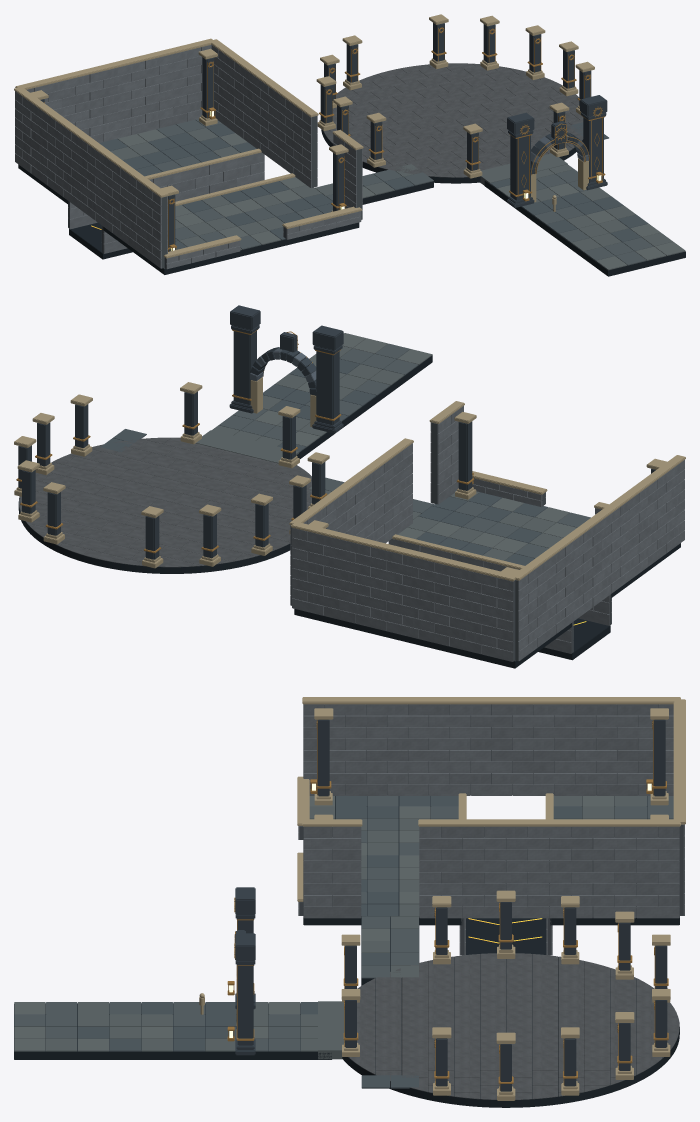
The model's file is fracture-static-v03.glb.
3 renders of one model, top to bottom at view 1: azimuth 30°, elevation 25°; view 2: azimuth 150°, elevation 25°; view 3: azimuth 270°, elevation 25°, orthographic. The views are drawn at different scales.
Visible parts, largest first — view 1: fracture-static-v03 Fire coursed basalt, fracture-static-v03 Quiet basalt 0, fracture-static-v03 Ash stone • warm trim, fracture-static-v03 Basalt • charcoal, fracture-static-v03 Floor stone 3, fracture-static-v03 Floor stone 1, fracture-static-v03 Floor stone 0, fracture-static-v03 Recesses and grout, fracture-static-v03 Floor stone 2, fracture-static-v03 Bronze • forged warm, fracture-static-v03 Fire recessed mortar; view 2: fracture-static-v03 Fire coursed basalt, fracture-static-v03 Quiet basalt 0, fracture-static-v03 Basalt • charcoal, fracture-static-v03 Ash stone • warm trim, fracture-static-v03 Recesses and grout, fracture-static-v03 Floor stone 1, fracture-static-v03 Floor stone 3, fracture-static-v03 Floor stone 0, fracture-static-v03 Floor stone 2, fracture-static-v03 Fire recessed mortar, fracture-static-v03 Bronze • forged warm; view 3: fracture-static-v03 Fire coursed basalt, fracture-static-v03 Quiet basalt 0, fracture-static-v03 Ash stone • warm trim, fracture-static-v03 Basalt • charcoal, fracture-static-v03 Recesses and grout, fracture-static-v03 Floor stone 1, fracture-static-v03 Floor stone 0, fracture-static-v03 Floor stone 3, fracture-static-v03 Floor stone 2, fracture-static-v03 Bronze • forged warm, fracture-static-v03 Fire recessed mortar.
Boxes of the visible parts, x1=… form: fracture-static-v03 Fire coursed basalt: x1=15, y1=44, x2=362, y2=269; fracture-static-v03 Quiet basalt 0: x1=323, y1=63, x2=583, y2=177; fracture-static-v03 Ash stone • warm trim: x1=14, y1=14, x2=594, y2=258; fracture-static-v03 Basalt • charcoal: x1=40, y1=23, x2=607, y2=251; fracture-static-v03 Floor stone 3: x1=99, y1=122, x2=648, y2=249; fracture-static-v03 Floor stone 1: x1=110, y1=128, x2=673, y2=251; fracture-static-v03 Floor stone 0: x1=154, y1=119, x2=653, y2=265; fracture-static-v03 Recesses and grout: x1=18, y1=129, x2=685, y2=276; fracture-static-v03 Floor stone 2: x1=117, y1=129, x2=685, y2=270; fracture-static-v03 Bronze • forged warm: x1=44, y1=26, x2=605, y2=251; fracture-static-v03 Fire recessed mortar: x1=68, y1=62, x2=361, y2=268; fracture-static-v03 Fire coursed basalt: x1=290, y1=406, x2=684, y2=661; fracture-static-v03 Quiet basalt 0: x1=19, y1=437, x2=311, y2=567; fracture-static-v03 Basalt • charcoal: x1=18, y1=305, x2=655, y2=559; fracture-static-v03 Ash stone • warm trim: x1=14, y1=377, x2=685, y2=581; fracture-static-v03 Recesses and grout: x1=18, y1=355, x2=680, y2=668; fracture-static-v03 Floor stone 1: x1=196, y1=346, x2=562, y2=560; fracture-static-v03 Floor stone 3: x1=100, y1=359, x2=547, y2=565; fracture-static-v03 Floor stone 0: x1=219, y1=343, x2=590, y2=661; fracture-static-v03 Floor stone 2: x1=255, y1=333, x2=576, y2=553; fracture-static-v03 Fire recessed mortar: x1=291, y1=423, x2=611, y2=661; fracture-static-v03 Bronze • forged warm: x1=16, y1=329, x2=474, y2=553; fracture-static-v03 Fire coursed basalt: x1=298, y1=704, x2=684, y2=955; fracture-static-v03 Quiet basalt 0: x1=348, y1=953, x2=679, y2=1099; fracture-static-v03 Ash stone • warm trim: x1=199, y1=697, x2=685, y2=1100; fracture-static-v03 Basalt • charcoal: x1=235, y1=719, x2=667, y2=1091; fracture-static-v03 Recesses and grout: x1=14, y1=796, x2=679, y2=1107; fracture-static-v03 Floor stone 1: x1=46, y1=795, x2=646, y2=1059; fracture-static-v03 Floor stone 0: x1=14, y1=795, x2=673, y2=1051; fracture-static-v03 Floor stone 3: x1=78, y1=795, x2=673, y2=1088; fracture-static-v03 Floor stone 2: x1=14, y1=795, x2=614, y2=1051; fracture-static-v03 Bronze • forged warm: x1=227, y1=719, x2=668, y2=1090; fracture-static-v03 Fire recessed mortar: x1=299, y1=704, x2=683, y2=954.
Bounding box in the file's own units: 50.67 × 12.02 × 46.43.
14 materials, 2 textured.
